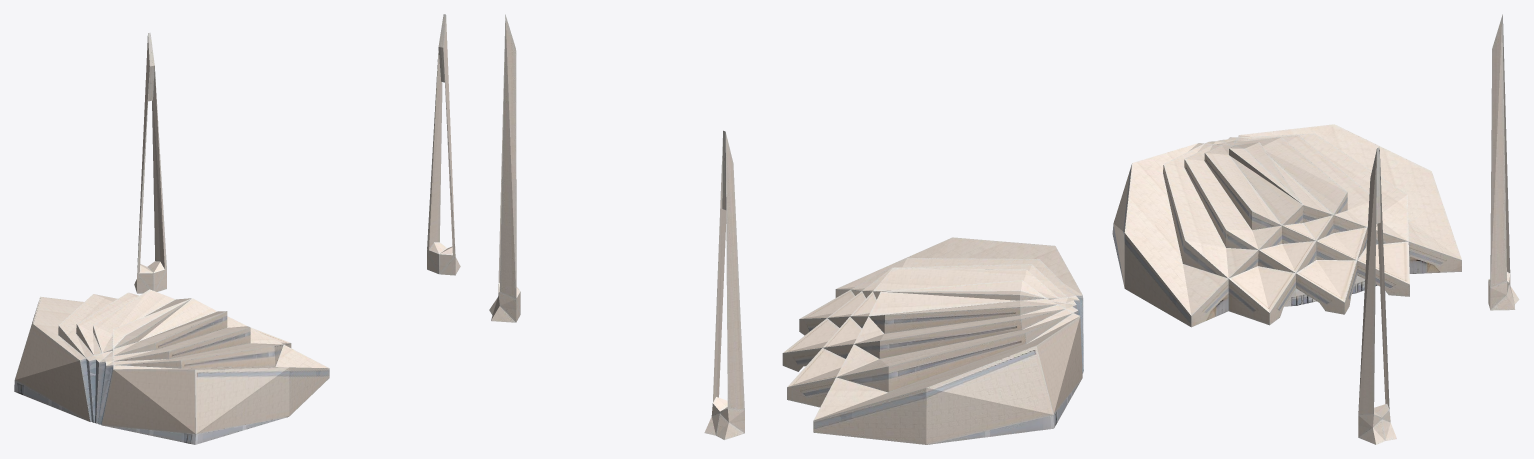
Rendered from grandmosquekafd.glb.
3 renders of one model, left to right at view 1: azimuth 30°, elevation 25°; view 2: azimuth 150°, elevation 25°; view 3: azimuth 270°, elevation 25°, orthographic. The views are drawn at different scales.
Parts seen in each view (by area): view 1: 4.002; view 2: 4.002; view 3: 4.002.
Part boxes in pixels (box(x1,y1,x2,y2)): 4.002: box(14, 14, 460, 444); 4.002: box(489, 14, 1083, 444); 4.002: box(1112, 14, 1519, 444).
Size of the model in its own units: 109 by 57.55 by 73.45.
1 material, 1 textured.
